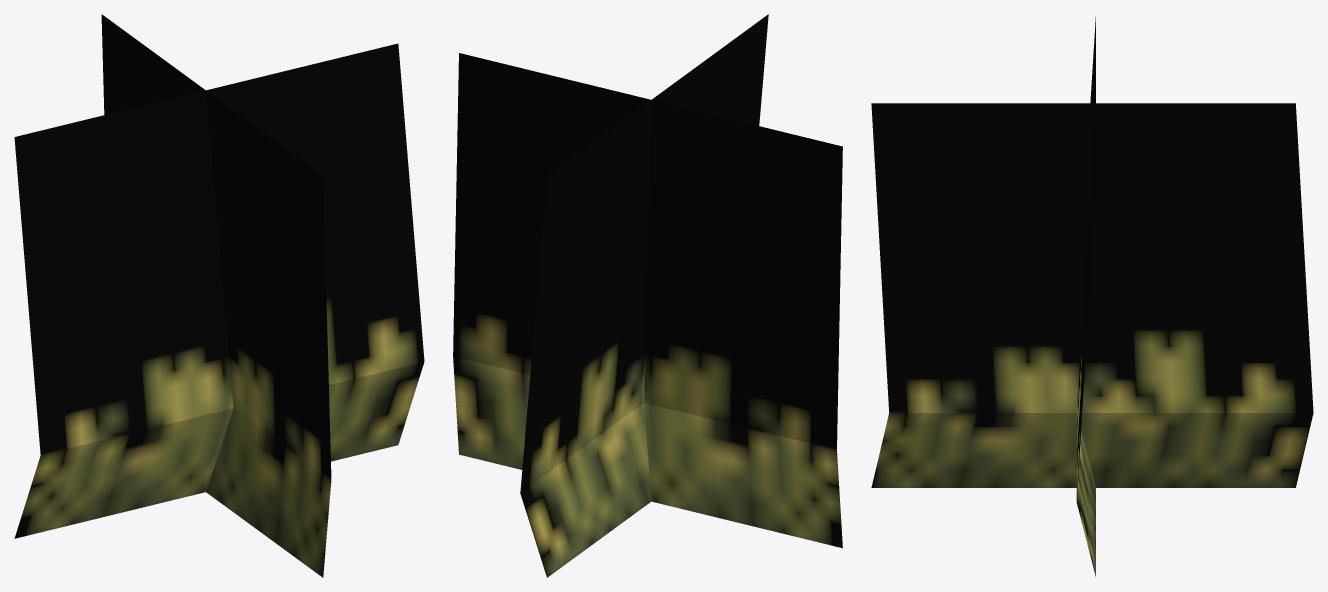
File: grass_01.fbx
The picture shows the model from 3 angles, left to right: view 1: azimuth 30°, elevation 25°; view 2: azimuth 150°, elevation 25°; view 3: azimuth 270°, elevation 25°; orthographic projection. The views are drawn at different scales.
Parts seen in each view (by area): view 1: grass_01; view 2: grass_01; view 3: grass_01.
Part boxes in pixels (x1,y1,x2,y2): grass_01: (14, 14, 424, 577); grass_01: (453, 14, 842, 577); grass_01: (871, 17, 1313, 576).
Bounding box in the file's own units: 208 × 200 × 208.
1 material, 1 textured.
